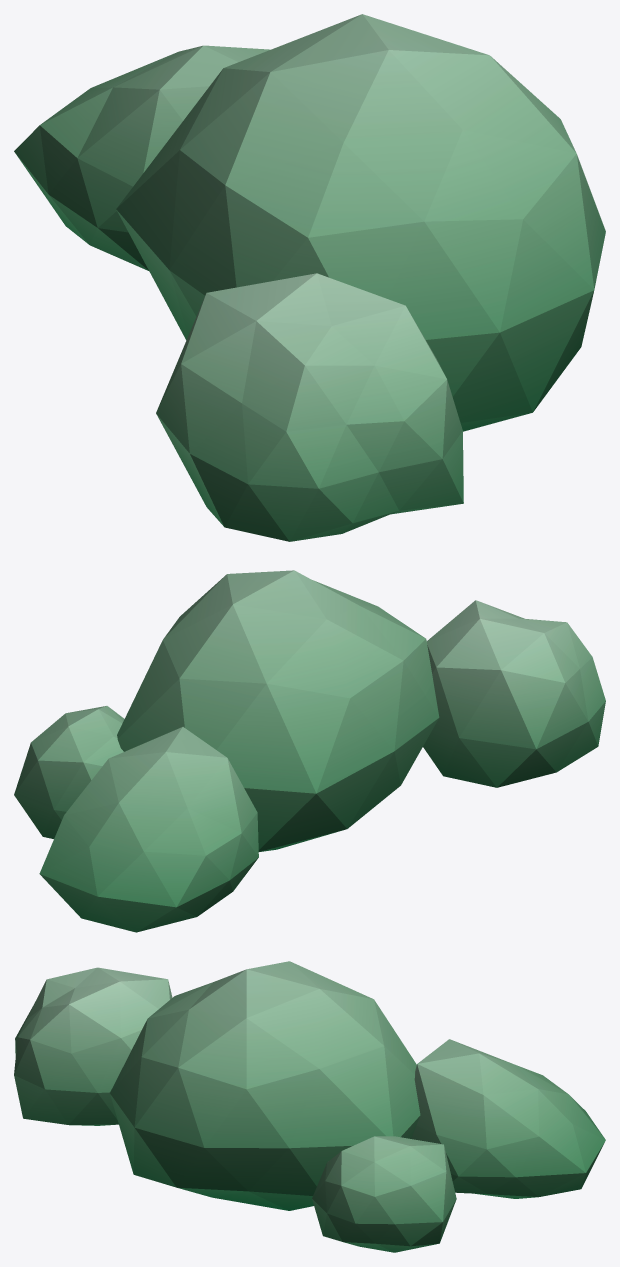
File: Bush.fbx
The picture shows the model from 3 angles, top to bottom: view 1: azimuth 30°, elevation 25°; view 2: azimuth 150°, elevation 25°; view 3: azimuth 270°, elevation 25°; orthographic projection. The views are drawn at different scales.
Visible parts, largest first — view 1: Icosphere.001, Icosphere.002, Icosphere.003; view 2: Icosphere.001, Icosphere.003, Icosphere.002, Icosphere.000; view 3: Icosphere.001, Icosphere.003, Icosphere.002, Icosphere.000.
Boxes of the visible parts, box(x1,y1,x2,y2) form: Icosphere.001: box(116, 14, 605, 431); Icosphere.002: box(156, 273, 463, 541); Icosphere.003: box(14, 45, 270, 270); Icosphere.001: box(117, 570, 439, 851); Icosphere.003: box(39, 727, 258, 932); Icosphere.002: box(423, 600, 605, 787); Icosphere.000: box(14, 706, 124, 838); Icosphere.001: box(110, 961, 420, 1210); Icosphere.003: box(411, 1039, 605, 1198); Icosphere.002: box(14, 967, 172, 1125); Icosphere.000: box(312, 1136, 456, 1252).
Size of the model in its own units: 457 by 270 by 638.
